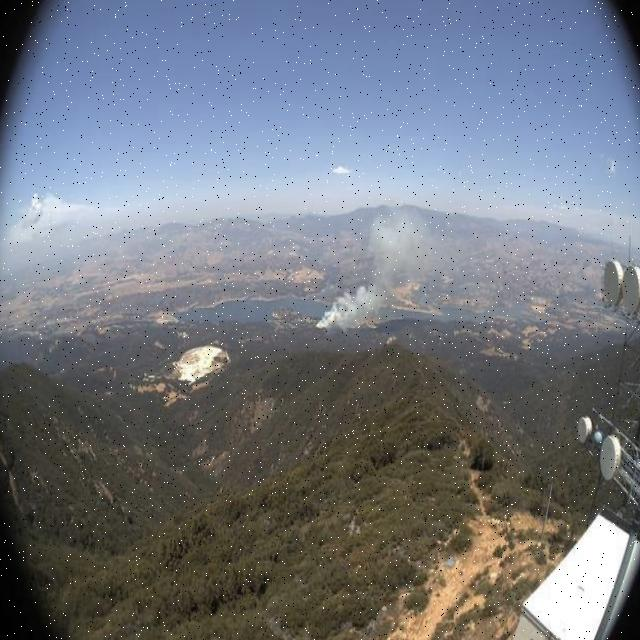smoke: (311, 204, 447, 331)
